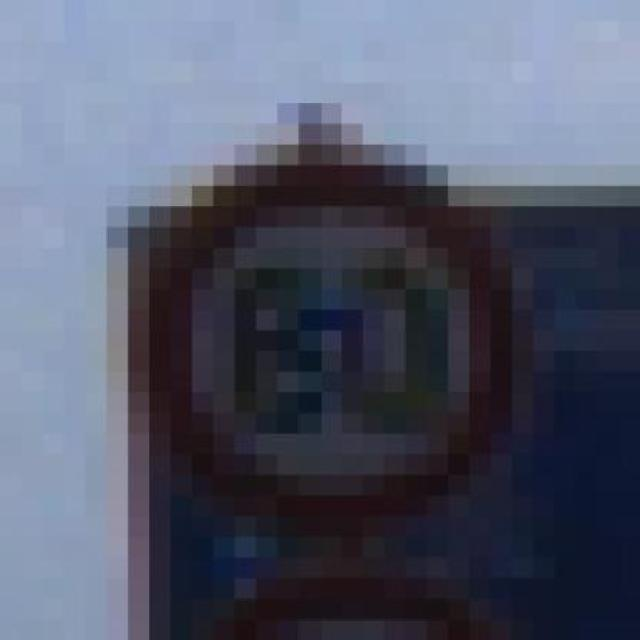forb_speed_over_80: (165, 175, 508, 522)
